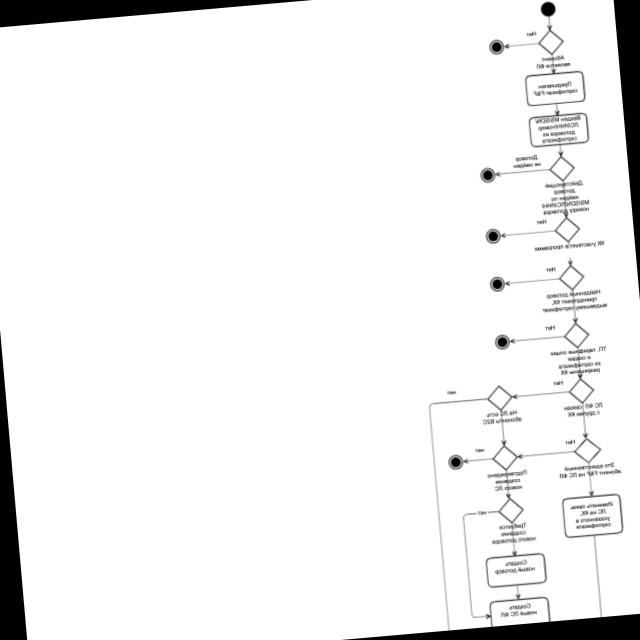arrow: (461, 506, 509, 621), (508, 332, 566, 344), (517, 448, 574, 460), (512, 388, 568, 398), (559, 180, 571, 216), (579, 402, 589, 439), (504, 40, 540, 50), (585, 461, 595, 496), (508, 522, 518, 556), (497, 409, 506, 445), (574, 344, 583, 380), (502, 470, 512, 500), (569, 291, 578, 323), (463, 456, 493, 465), (565, 241, 575, 266), (548, 55, 557, 74), (556, 143, 565, 157), (514, 584, 521, 600), (545, 16, 552, 31), (553, 103, 560, 116)
circle: (482, 227, 502, 246), (537, 0, 557, 18), (477, 166, 496, 184), (447, 454, 463, 470), (489, 276, 504, 292), (494, 335, 508, 349), (488, 40, 503, 53)
diamond: (573, 437, 601, 465), (562, 322, 589, 349), (486, 385, 512, 412), (567, 378, 594, 404), (537, 29, 563, 56), (553, 216, 579, 243), (558, 264, 584, 291), (491, 445, 517, 471), (497, 498, 523, 524), (548, 156, 574, 182)
rectangle: (562, 493, 623, 538), (528, 112, 589, 148), (485, 553, 546, 588), (525, 71, 584, 106)
text_region: (538, 178, 594, 215), (541, 287, 607, 314), (550, 346, 609, 376), (555, 459, 626, 480), (489, 520, 542, 547), (484, 468, 531, 494), (533, 238, 605, 254), (556, 398, 607, 420), (535, 52, 573, 69), (480, 410, 523, 425), (511, 152, 543, 170), (443, 386, 468, 397), (562, 435, 580, 446), (530, 218, 547, 229), (542, 264, 558, 275), (549, 378, 565, 387), (473, 445, 487, 454), (545, 323, 558, 331), (526, 30, 537, 37)
